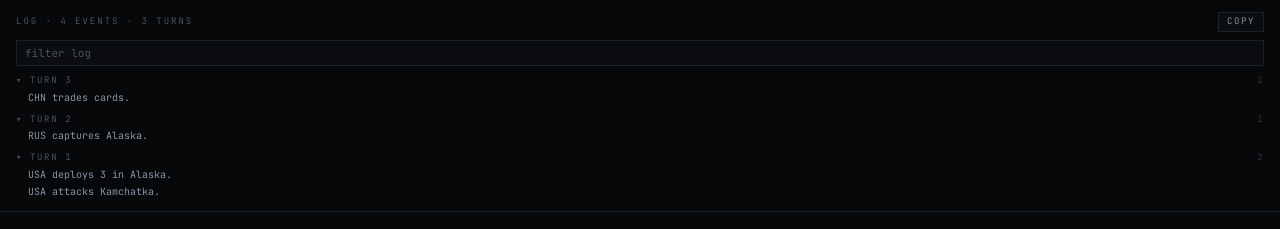
Test: LogPanel › filters entries by case-insensitive substring
Type "alaska" into the field labelled "filter log".
click(640, 53); type("alaska")  # box [16,40,1264,66]
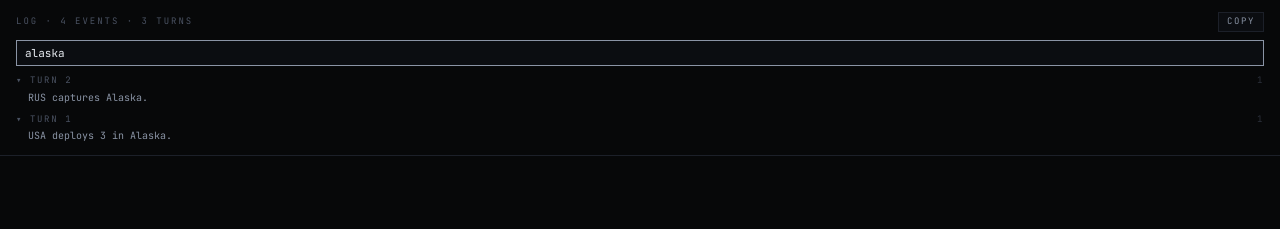
Expected: the list item "USA deploys 3 in Alaska." is shown, [28,129,172,142]
Expected: the list item "USA attacks Kamchatka." is gone
Expected: the list item "CHN trades cards." is gone
